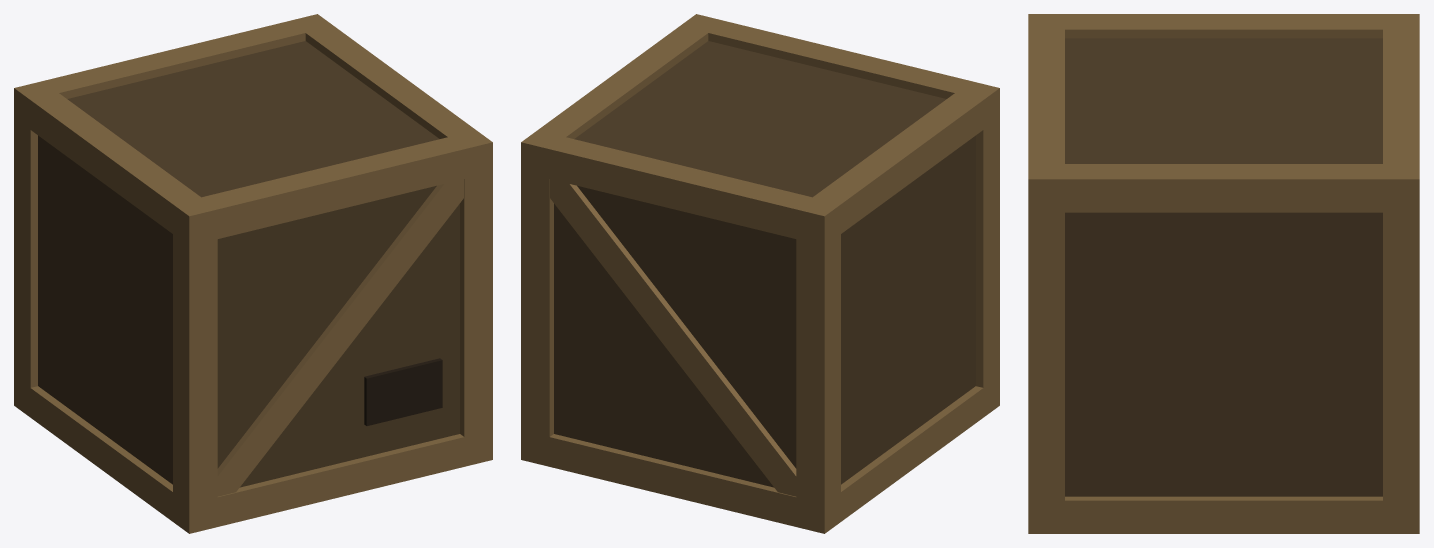
The model's file is crate.glb.
The picture shows the model from 3 angles, left to right: view 1: azimuth 30°, elevation 25°; view 2: azimuth 150°, elevation 25°; view 3: azimuth 270°, elevation 25°; orthographic projection. The views are drawn at different scales.
Visible parts, largest first — view 1: crate; view 2: crate; view 3: crate.
Part boxes in pixels (x1=…): crate: x1=14, y1=14, x2=492, y2=533; crate: x1=521, y1=14, x2=999, y2=533; crate: x1=1028, y1=14, x2=1419, y2=533.
Size of the model in its own units: 0.8 by 0.8 by 0.8.
